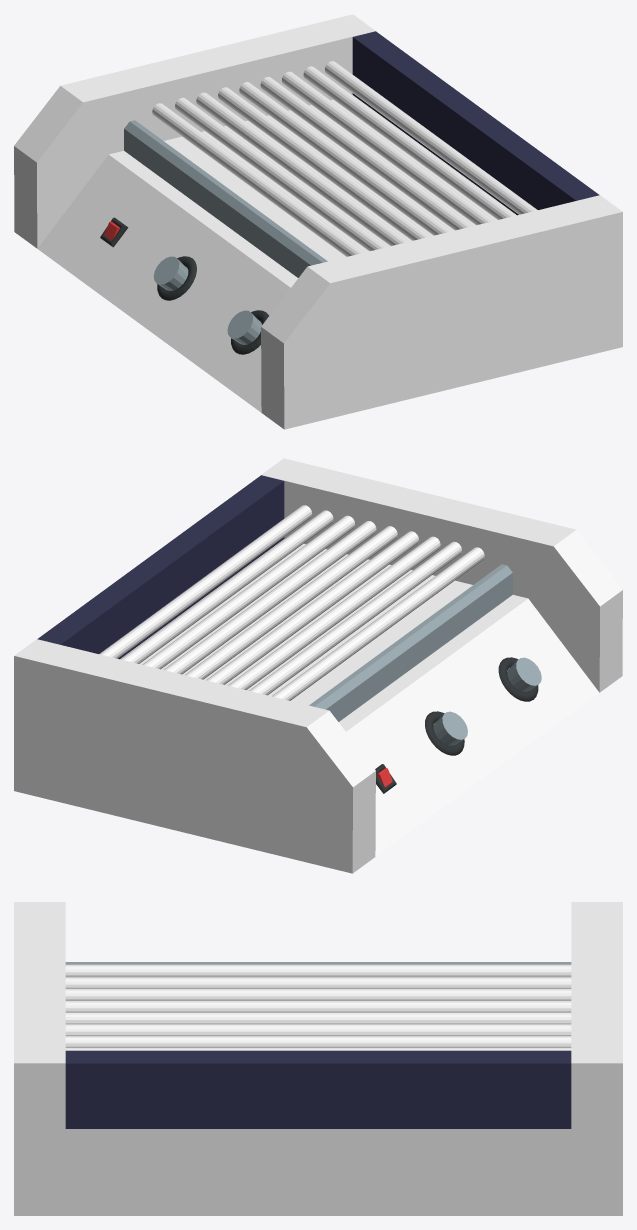
File: MaszynaDoHoTDogow.v3.fbx
3 renders of one model, top to bottom at view 1: azimuth 30°, elevation 25°; view 2: azimuth 150°, elevation 25°; view 3: azimuth 270°, elevation 25°, orthographic. The views are drawn at different scales.
Parts seen in each view (by area): view 1: MaszynaDoHoTDogow.v3; view 2: MaszynaDoHoTDogow.v3; view 3: MaszynaDoHoTDogow.v3.
Part boxes in pixels (x1,y1,x2,y2): MaszynaDoHoTDogow.v3: (14, 14, 622, 429); MaszynaDoHoTDogow.v3: (14, 458, 622, 873); MaszynaDoHoTDogow.v3: (14, 902, 622, 1215).
Bounding box in the file's own units: 1.73 × 0.6574 × 2.38.
